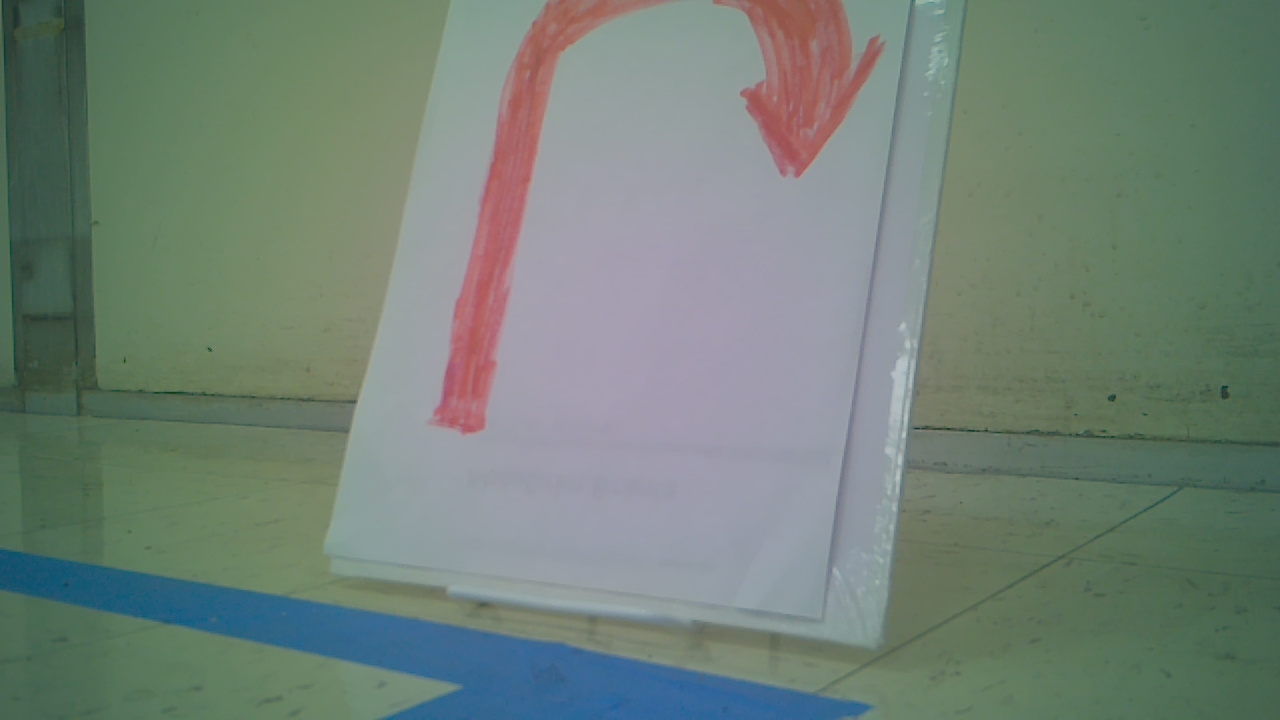uturn: (432, 0, 890, 433)
